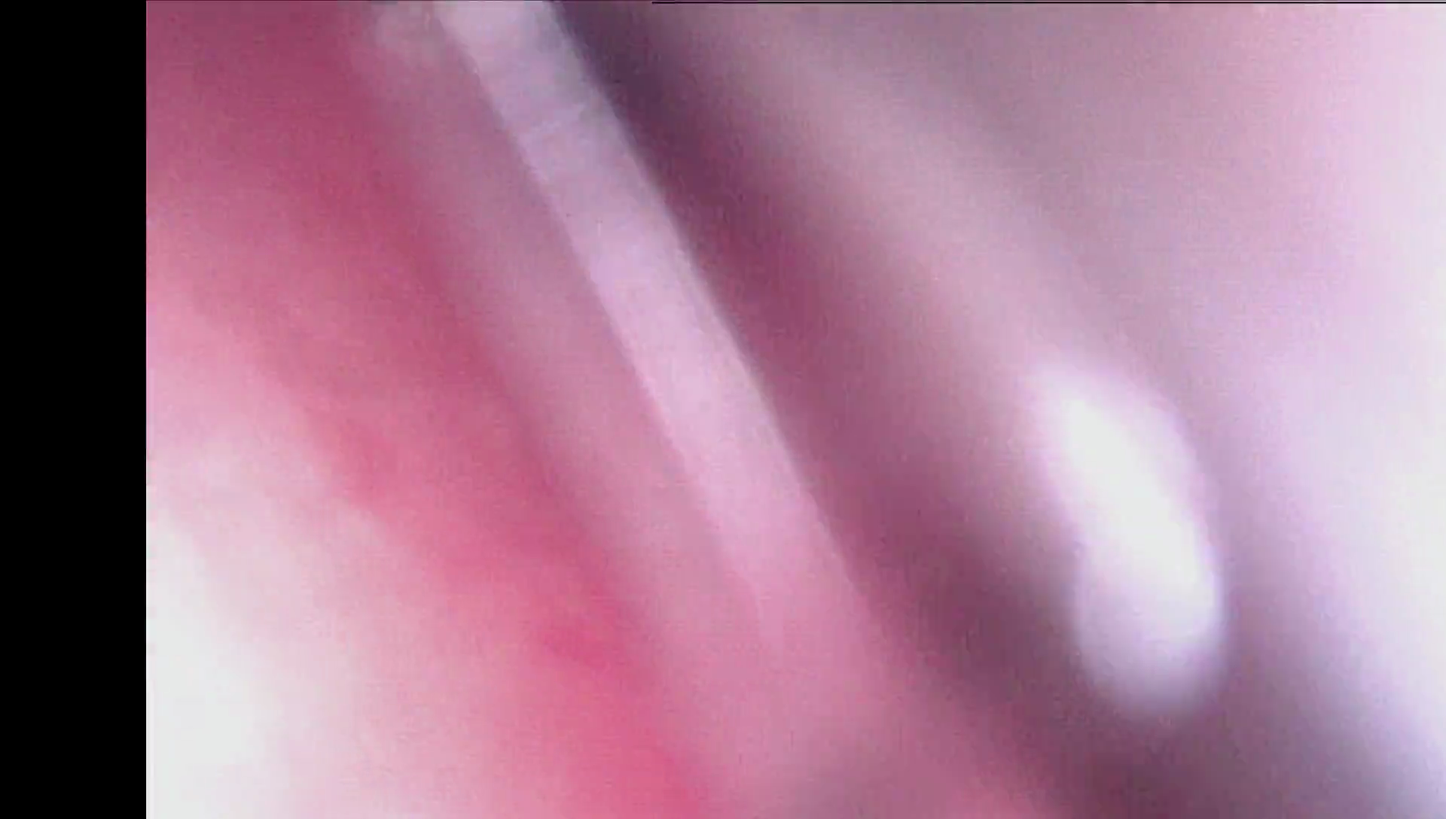close_wall: (149, 394, 605, 819)
